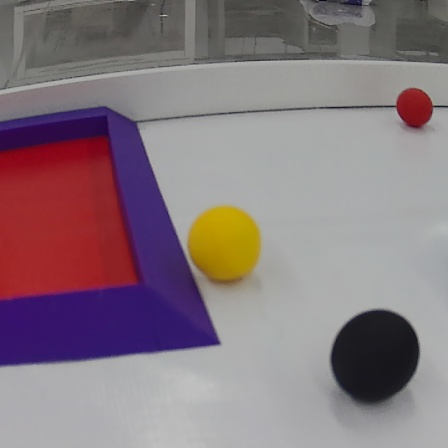black: (325, 305, 425, 410)
red: (389, 82, 440, 133)
red_aim: (2, 103, 225, 373)
yellow: (184, 202, 261, 285)
